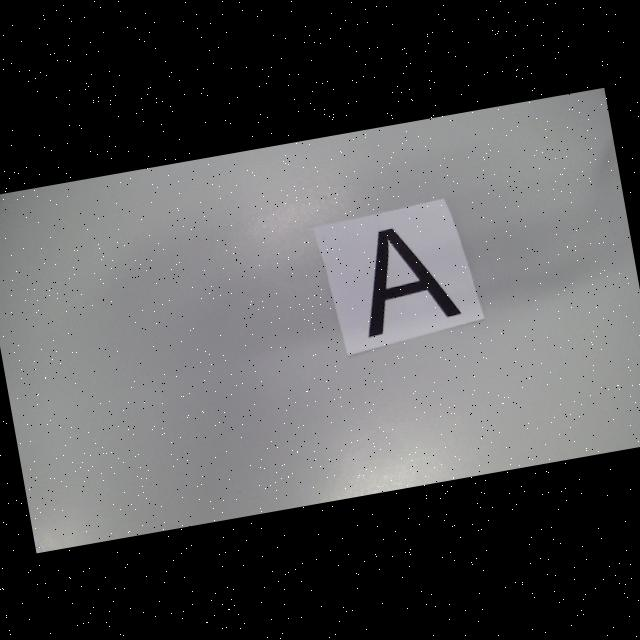FAKE: (352, 218, 462, 336)
